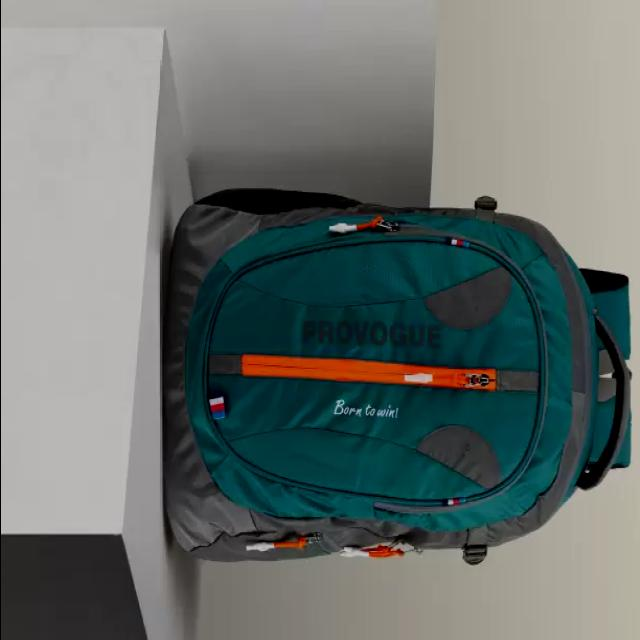backpack: (164, 188, 634, 566)
